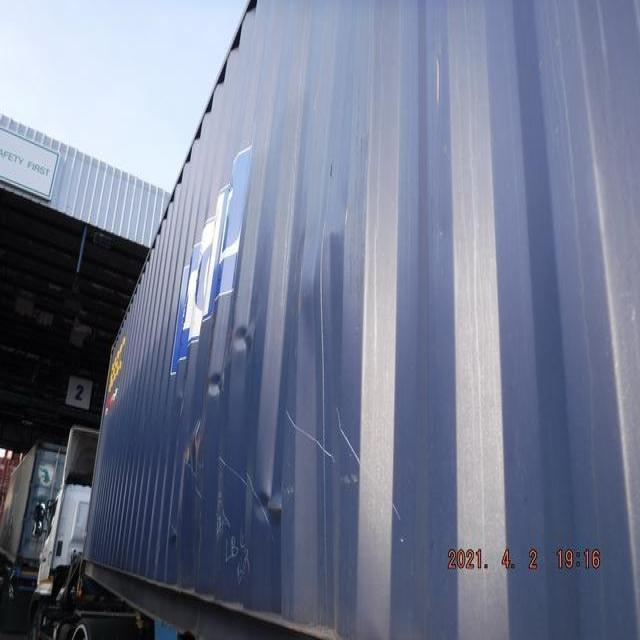dent: (160, 300, 295, 552), (283, 212, 368, 354)
